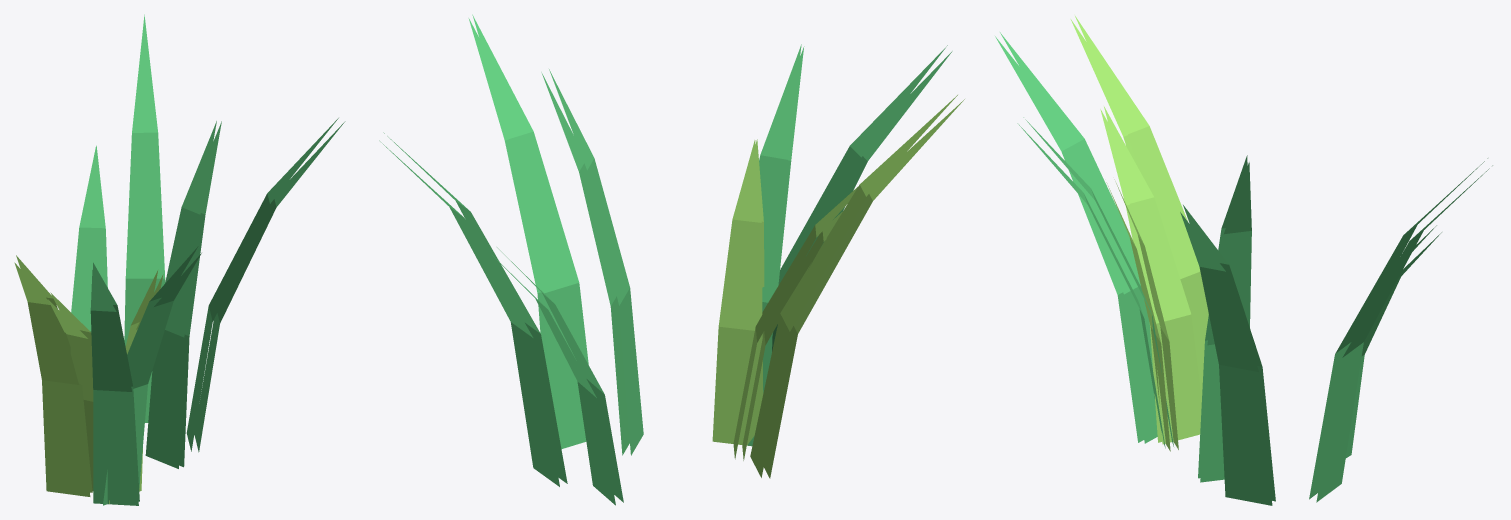
File: sea_grass_clump.fbx
The picture shows the model from 3 angles, left to right: view 1: azimuth 30°, elevation 25°; view 2: azimuth 150°, elevation 25°; view 3: azimuth 270°, elevation 25°; orthographic projection. The views are drawn at different scales.
Parts seen in each view (by area): view 1: sea_grass_clump; view 2: sea_grass_clump; view 3: sea_grass_clump.
Part boxes in pixels (left/top/right/bottom): sea_grass_clump: left=14, top=14, right=345, bottom=505; sea_grass_clump: left=379, top=14, right=964, bottom=505; sea_grass_clump: left=995, top=16, right=1492, bottom=505.
Size of the model in its own units: 403 by 339 by 410.
1 material, 1 textured.
